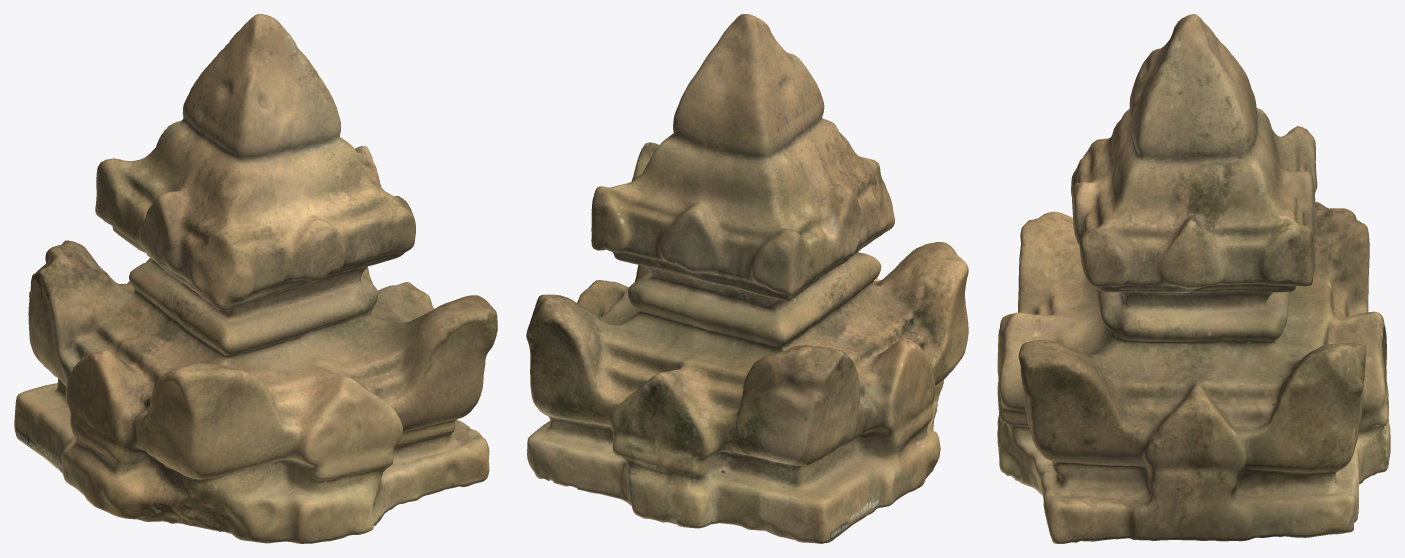
The model's file is 11_MysonSanctuaryD2_ChopThap_final.glb.
3 renders of one model, left to right at view 1: azimuth 30°, elevation 25°; view 2: azimuth 150°, elevation 25°; view 3: azimuth 270°, elevation 25°, orthographic. The views are drawn at different scales.
Size of the model in its own units: 0.4505 by 0.5671 by 0.4468.
1 material, 1 textured.
